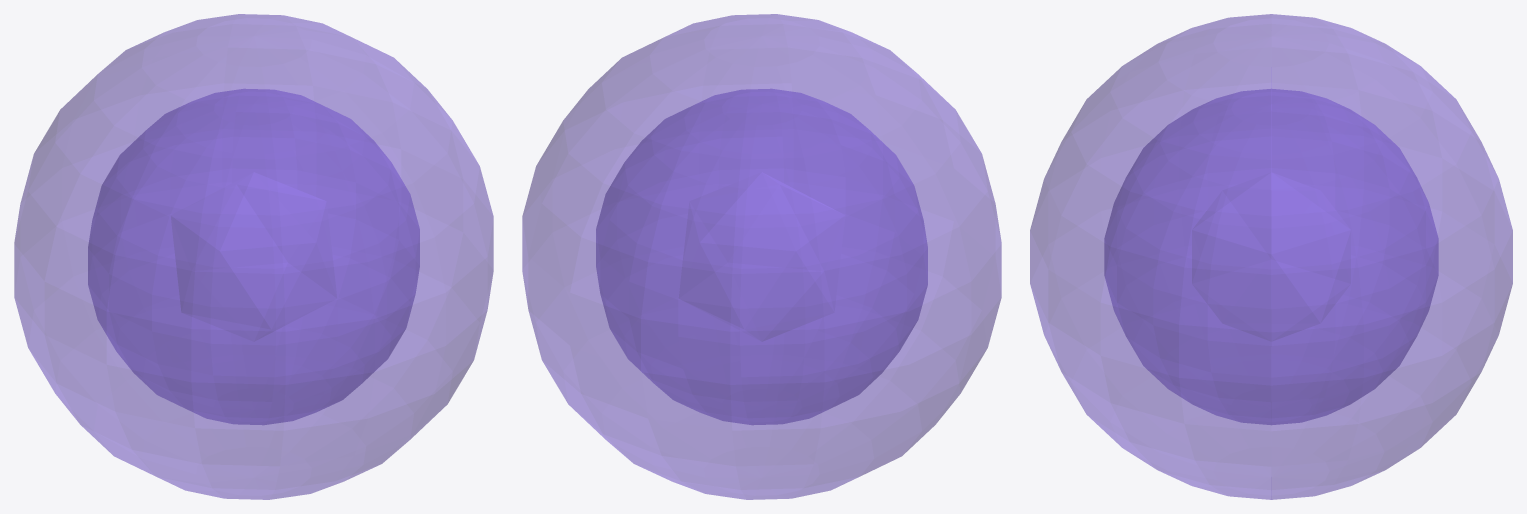
3 views of the same model, side by side, from view 1: azimuth 30°, elevation 25°; view 2: azimuth 150°, elevation 25°; view 3: azimuth 270°, elevation 25° (orthographic).
Visible parts, largest first — view 1: Cube; view 2: Cube; view 3: Cube.
Boxes of the visible parts, x1,y1,x2,y2 form: Cube: (14,14,493,499); Cube: (522,14,1001,499); Cube: (1030,14,1512,499).
Size of the model in its own units: 1.45 by 1.46 by 1.45.
